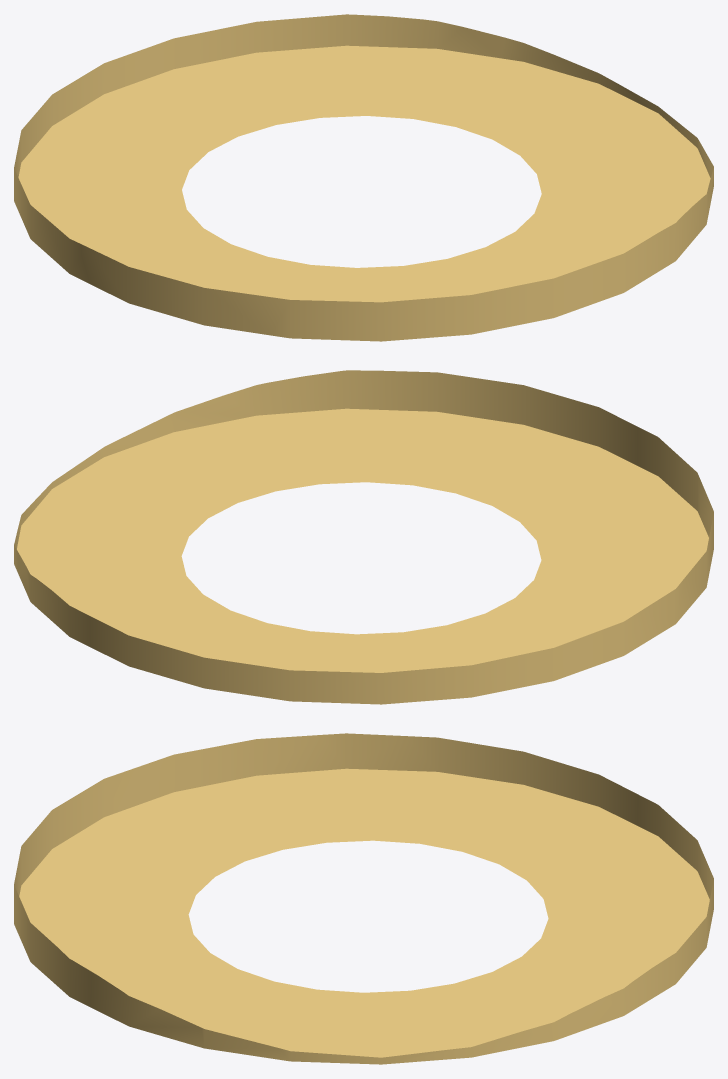
File: original-46.obj
3 views of the same model, one above another, from view 1: azimuth 30°, elevation 25°; view 2: azimuth 150°, elevation 25°; view 3: azimuth 270°, elevation 25° (orthographic).
Visible parts, largest first — view 1: #ID218; view 2: #ID218; view 3: #ID218.
Part boxes in pixels (bbox=[...]): #ID218: bbox=[14, 14, 713, 341]; #ID218: bbox=[14, 370, 713, 704]; #ID218: bbox=[14, 733, 713, 1064].
Size of the model in its own units: 0.0792 by 0.00495 by 0.0792.
